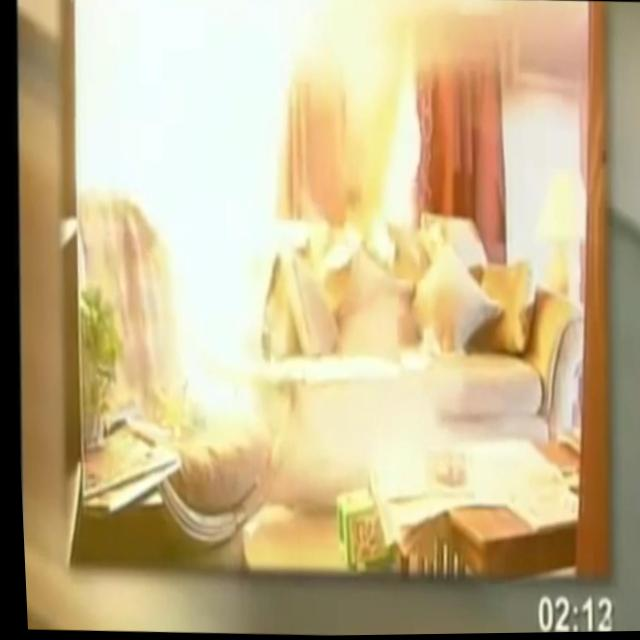fire: (151, 22, 282, 417)
